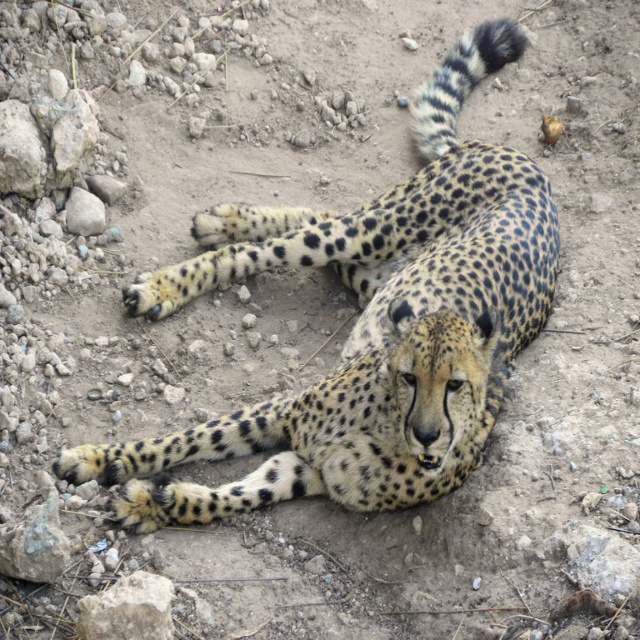Jaguar: (50, 11, 558, 539)
